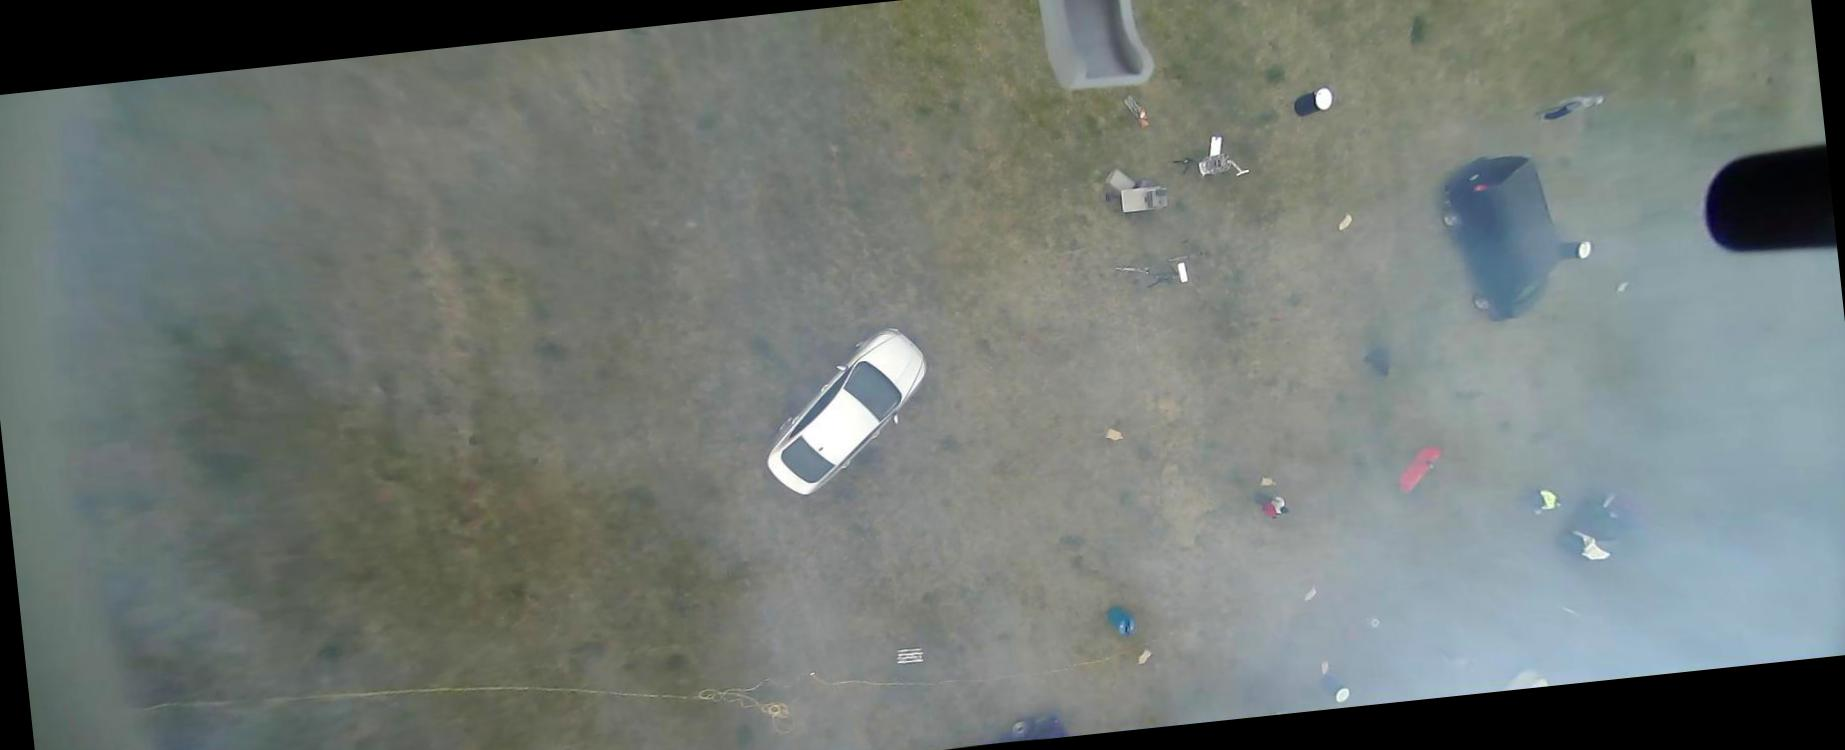vehicle: (753, 321, 940, 499), (1432, 150, 1565, 328), (1548, 484, 1643, 568), (988, 711, 1064, 743)
